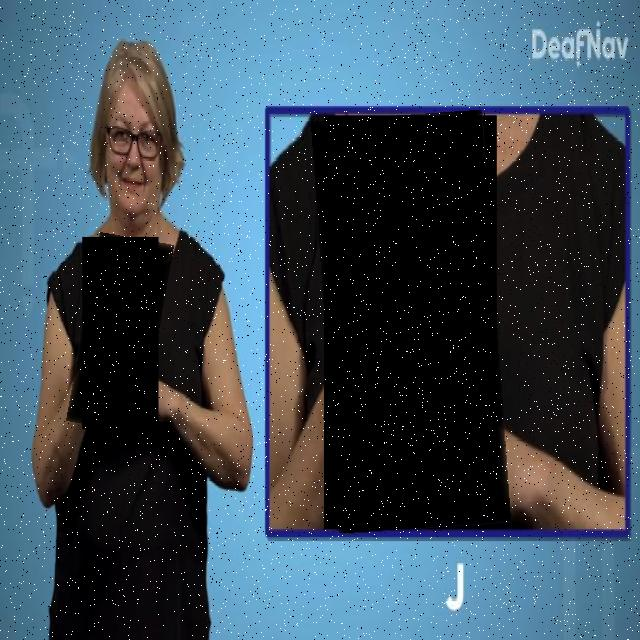J: (319, 114, 505, 533), (76, 235, 168, 433)
